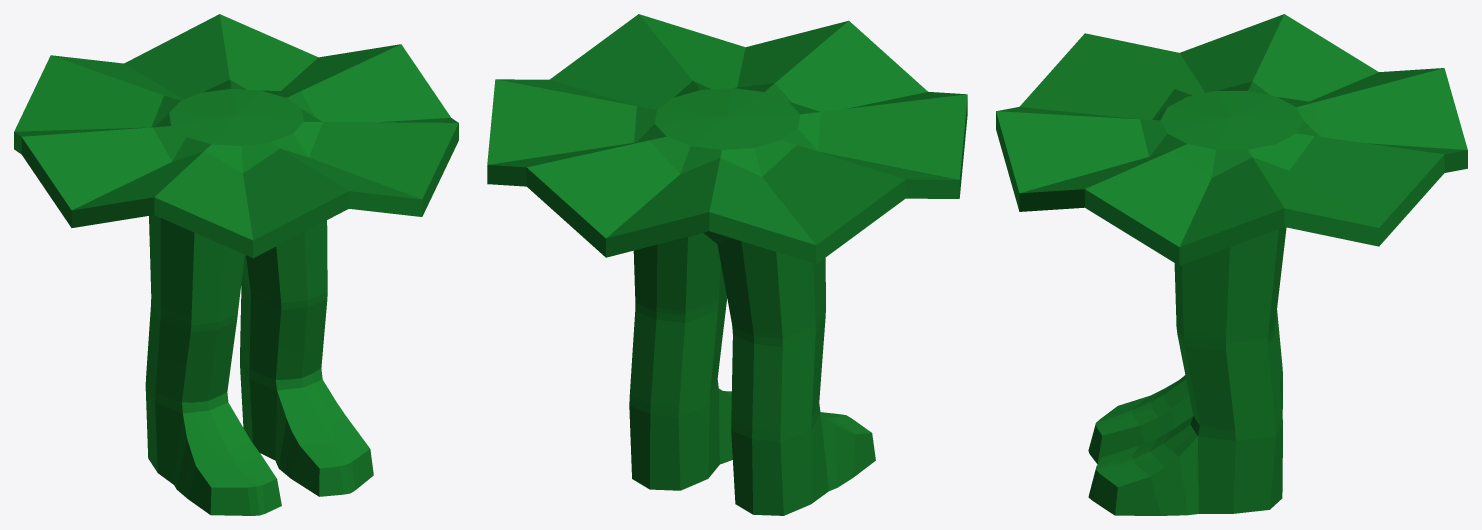
Rendered from Tutu.fbx.
3 views of the same model, side by side, from view 1: azimuth 30°, elevation 25°; view 2: azimuth 150°, elevation 25°; view 3: azimuth 270°, elevation 25° (orthographic). The views are drawn at different scales.
Parts seen in each view (by area): view 1: Cube; view 2: Cube; view 3: Cube.
Boxes of the visible parts, x1,y1,x2,y2 form: Cube: (14, 14, 458, 515); Cube: (487, 14, 967, 515); Cube: (996, 14, 1467, 515).
Size of the model in its own units: 85.37 by 87.57 by 74.27.
